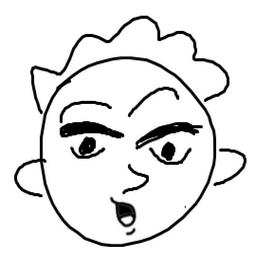ear: (11, 156, 50, 204), (207, 148, 250, 187)
eye: (135, 122, 202, 166), (55, 125, 122, 159)
eyebrow: (57, 97, 115, 123)
frowning_eyebrow: (127, 81, 182, 116)
open_mouth: (111, 205, 142, 227)
pointy_nose: (117, 162, 152, 195)
